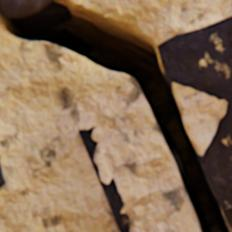brick: (0, 0, 55, 18), (0, 158, 6, 188)
broken_brick: (158, 17, 231, 229), (80, 128, 130, 231)
crack: (0, 0, 229, 231)
